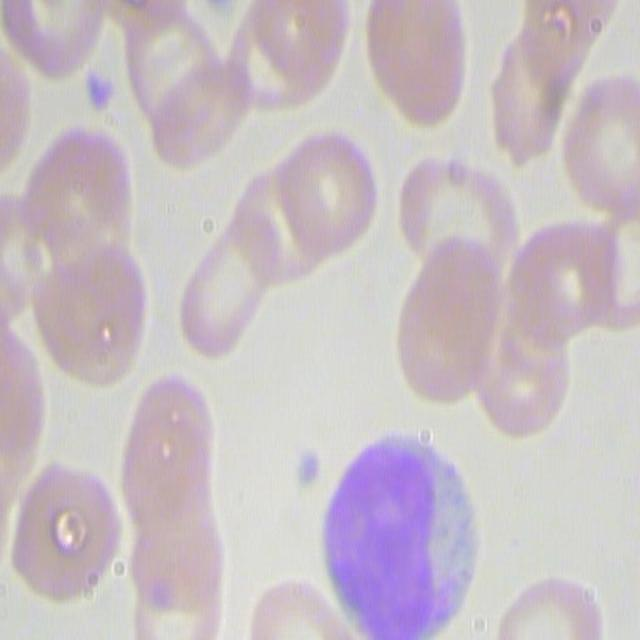RBC: (116, 369, 218, 550), (389, 250, 500, 413), (122, 0, 228, 164), (32, 236, 146, 386), (392, 150, 516, 284), (270, 126, 384, 271), (218, 2, 354, 121), (17, 122, 132, 262), (496, 220, 624, 343), (12, 458, 118, 604), (366, 2, 476, 128), (489, 21, 582, 164), (470, 312, 574, 438), (173, 237, 266, 360), (559, 79, 640, 215), (0, 0, 106, 82), (588, 187, 640, 339), (495, 572, 607, 640)
WBC: (317, 415, 484, 640), (141, 560, 322, 640)
platelets: (80, 68, 116, 119)
